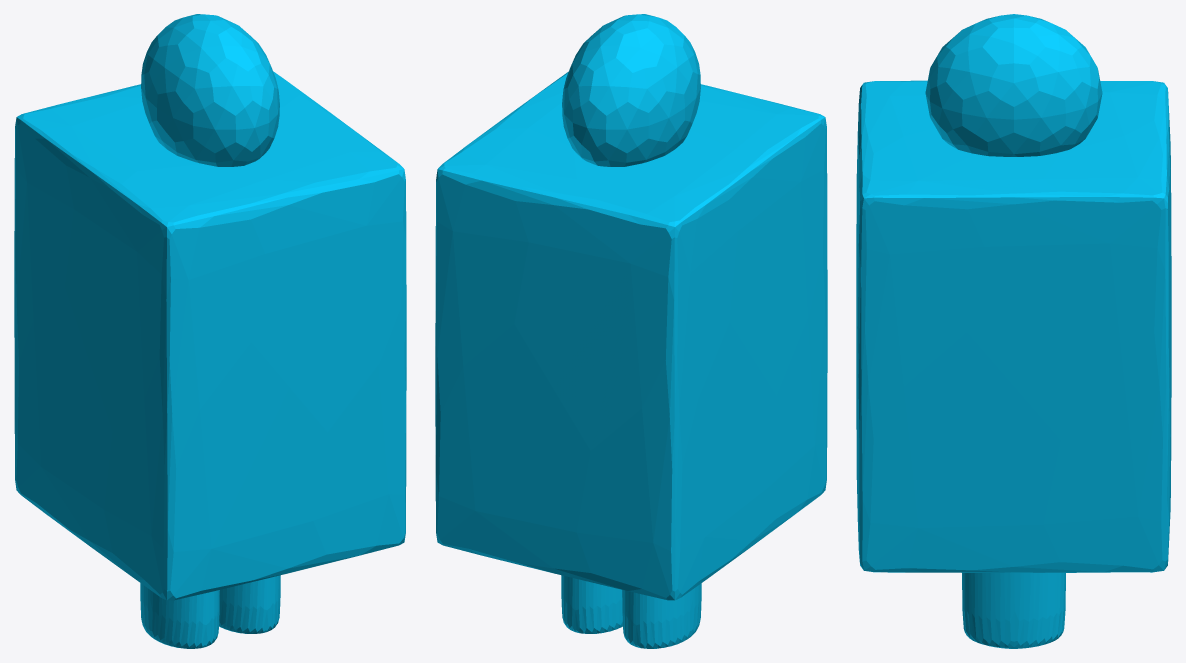
The model's file is kaden.glb.
3 renders of one model, left to right at view 1: azimuth 30°, elevation 25°; view 2: azimuth 150°, elevation 25°; view 3: azimuth 270°, elevation 25°, orthographic.
Parts seen in each view (by area): view 1: kaden; view 2: kaden; view 3: kaden.
Boxes of the visible parts, box(x1,y1,x2,y2) form: kaden: box(14, 14, 406, 648); kaden: box(435, 14, 827, 648); kaden: box(856, 14, 1171, 648).
Bounding box in the file's own units: 0.7995 × 1.9 × 0.8989.
